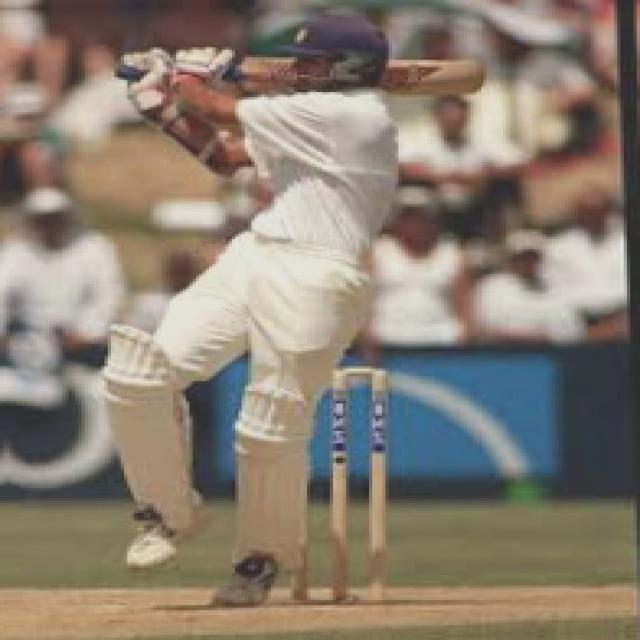toe: (463, 58, 487, 98)
